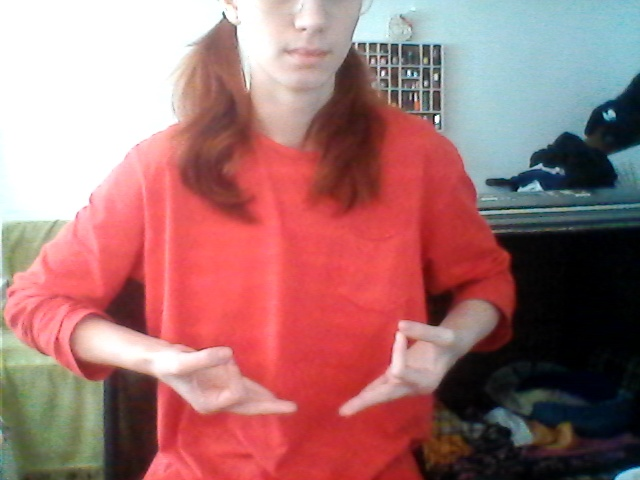preco: (159, 304, 463, 432)
